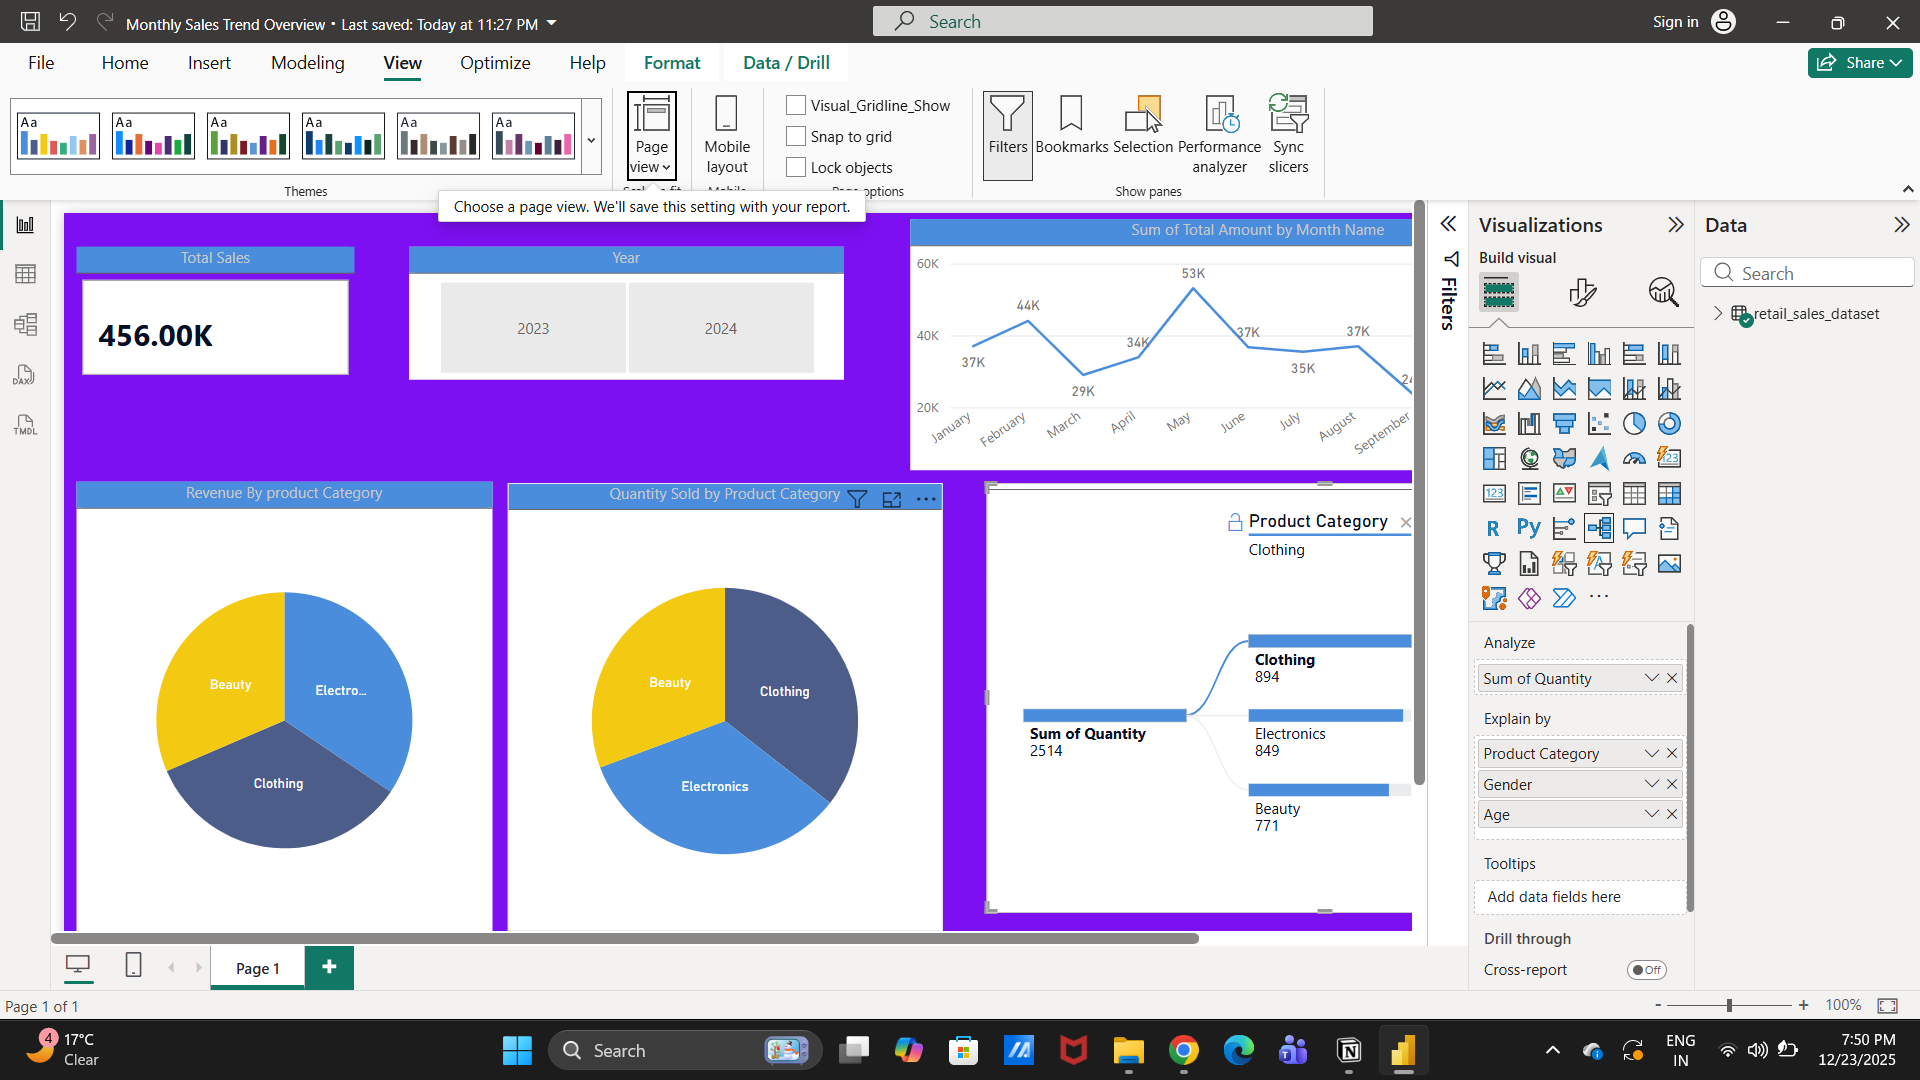

The dashboard page shown, as its layout file describes it:
{"tool":"powerbi","page":{"name":"Page 1","canvas":[1280,720],"ordinal":0},"visuals":[{"type":"cardVisual","title":"Total Sales","fields":{"Data":["Sum(retail_sales_dataset.Total Amount)"]},"box":[9.6,27.4,223.7,107],"z":0},{"type":"lineChart","fields":{"Category":["retail_sales_dataset.Month Name"],"Y":["Sum(retail_sales_dataset.Total Amount)"]},"box":[676.5,5.5,557.1,200.3],"z":1000},{"type":"slicer","title":"Year","fields":{"Values":["retail_sales_dataset.Year"]},"box":[275.8,27.4,348.5,107],"z":2000},{"type":"decompositionTreeVisual","fields":{"Analyze":["Sum(retail_sales_dataset.Quantity)"],"ExplainBy":["retail_sales_dataset.Product Category","retail_sales_dataset.Gender","retail_sales_dataset.Age"]},"box":[738.3,215.4,542,344.4],"z":3000},{"type":"pieChart","title":"Revenue By product Category","fields":{"Y":["Sum(retail_sales_dataset.Total Amount)"],"Category":["retail_sales_dataset.Product Category"]},"box":[9.7,214.7,333,360.7],"z":4000},{"type":"pieChart","title":" Quantity Sold by Product Category","fields":{"Category":["retail_sales_dataset.Product Category"],"Y":["Sum(retail_sales_dataset.Quantity)"]},"box":[354.7,216,348.7,359.5],"z":5000}]}

Visuals, with their boxes on the page's 1280x720 design canvas (x1, y1, x2, y2). These are canvas units, not pixel positions in the 1920x1080 screenshot, which may show the page scaled, cropped or inside an application window:
"Total Sales" cardVisual: select_region(10, 27, 233, 134)
lineChart - retail_sales_dataset.Month Name x Sum(retail_sales_dataset.Total Amount): select_region(676, 6, 1234, 206)
"Year" slicer: select_region(276, 27, 624, 134)
decompositionTreeVisual - Sum(retail_sales_dataset.Quantity) x retail_sales_dataset.Product Category: select_region(738, 215, 1280, 560)
"Revenue By product Category" pieChart: select_region(10, 215, 343, 575)
" Quantity Sold by Product Category" pieChart: select_region(355, 216, 703, 576)
